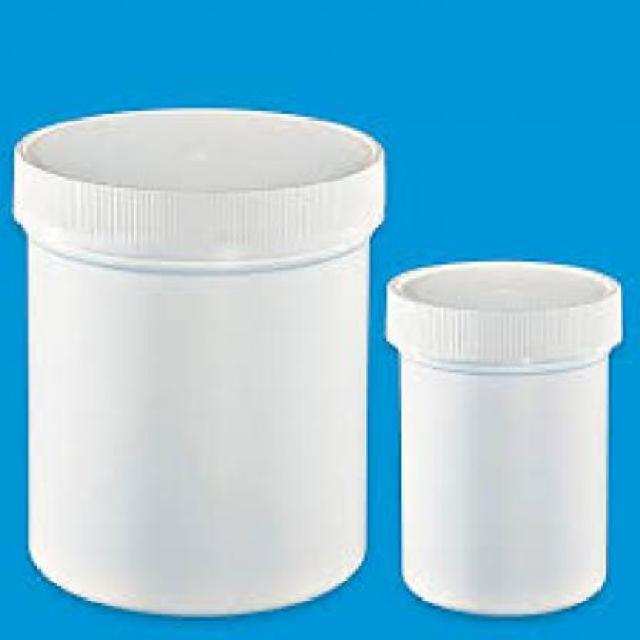GLASS: (25, 240, 367, 606), (395, 356, 603, 609)
PLASTIC: (8, 106, 384, 256), (384, 256, 618, 358)
